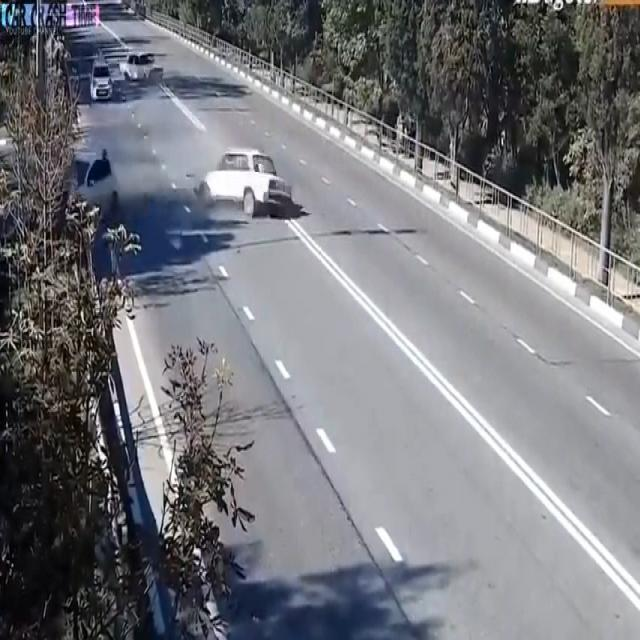Accident: (64, 106, 293, 256)
